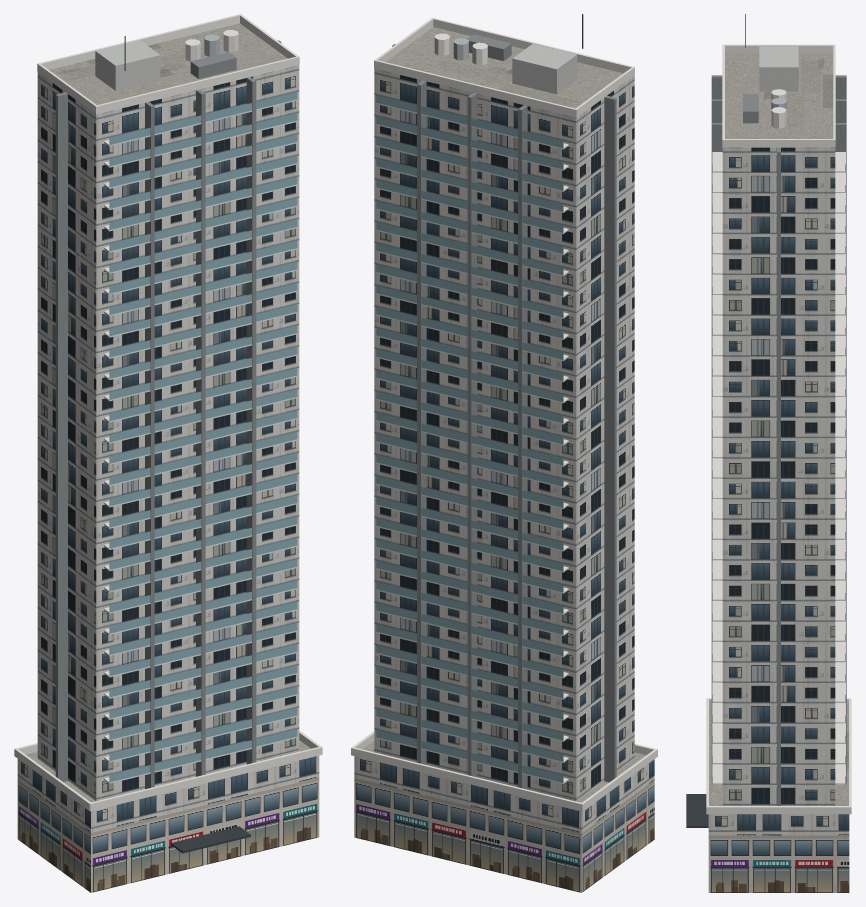
File: OW_CaoOc_CH_BanCong_116.fbx
The picture shows the model from 3 angles, left to right: view 1: azimuth 30°, elevation 25°; view 2: azimuth 150°, elevation 25°; view 3: azimuth 270°, elevation 25°; orthographic projection. The views are drawn at different scales.
Parts seen in each view (by area): view 1: OW_CaoOc_CH_BanCong_116_LOD0; view 2: OW_CaoOc_CH_BanCong_116_LOD0; view 3: OW_CaoOc_CH_BanCong_116_LOD0.
Boxes of the visible parts, box(x1,y1,x2,y2) form: OW_CaoOc_CH_BanCong_116_LOD0: box(14, 14, 322, 892); OW_CaoOc_CH_BanCong_116_LOD0: box(351, 14, 657, 892); OW_CaoOc_CH_BanCong_116_LOD0: box(686, 14, 851, 892).
Size of what is drawn, in the model's own units: 36.7 by 125 by 23.55.
